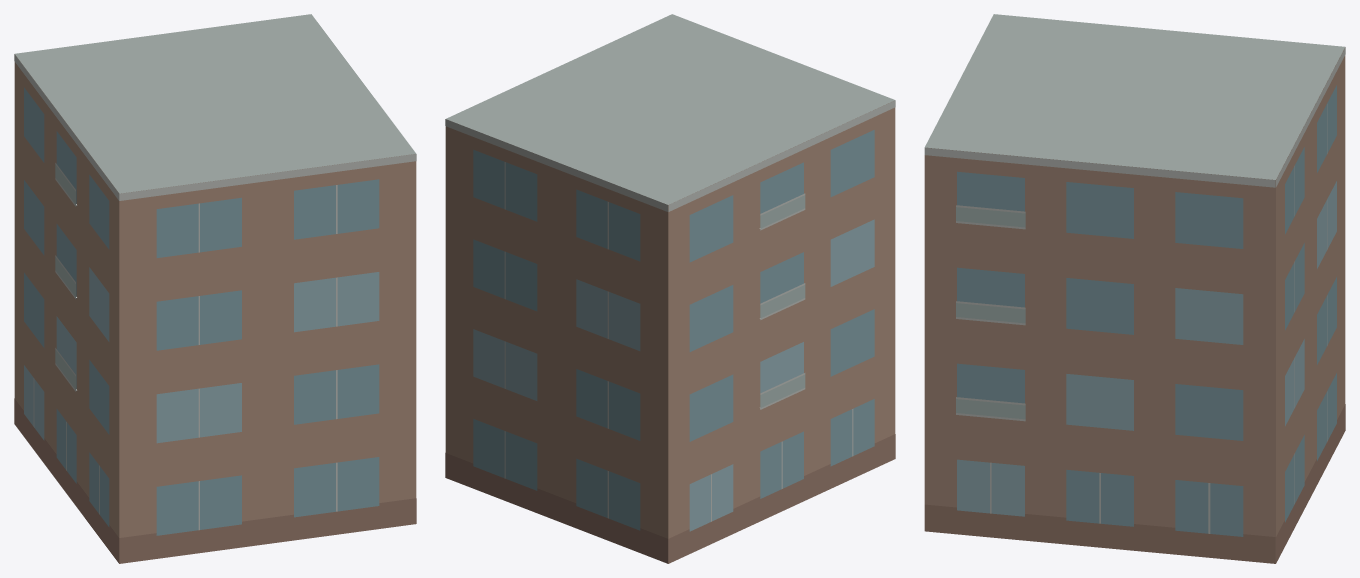
The model's file is residential-529b4b3a-bd37-43fe-b0a2-f34631077a30.glb.
3 views of the same model, side by side, from view 1: azimuth 30°, elevation 25°; view 2: azimuth 150°, elevation 25°; view 3: azimuth 270°, elevation 25° (orthographic). The views are drawn at different scales.
Visible parts, largest first — view 1: residential-529b4b3a-bd37-43fe-b0a2-f34631077a30.tmp; view 2: residential-529b4b3a-bd37-43fe-b0a2-f34631077a30.tmp; view 3: residential-529b4b3a-bd37-43fe-b0a2-f34631077a30.tmp.
Boxes of the visible parts, bbox=[...] form: residential-529b4b3a-bd37-43fe-b0a2-f34631077a30.tmp: bbox=[14, 14, 416, 563]; residential-529b4b3a-bd37-43fe-b0a2-f34631077a30.tmp: bbox=[445, 14, 895, 563]; residential-529b4b3a-bd37-43fe-b0a2-f34631077a30.tmp: bbox=[924, 14, 1345, 563].
Size of the model in its own units: 11.33 by 12.2 by 12.13.
